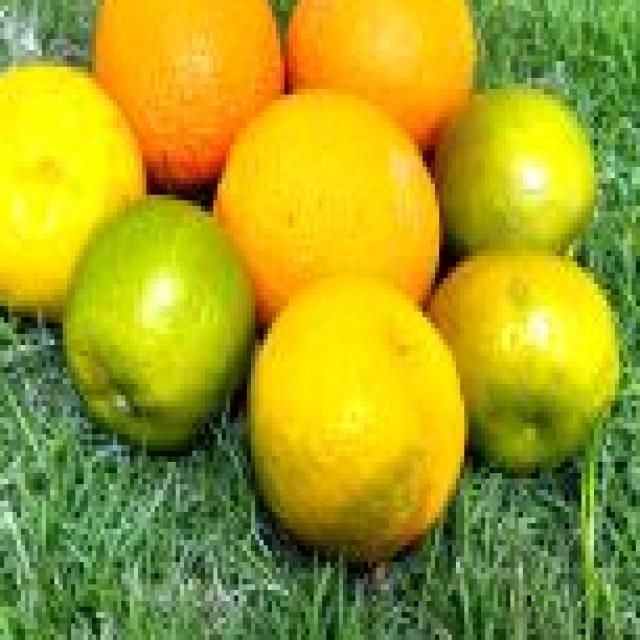Good_Orange-15-21 days: (0, 0, 623, 573)
